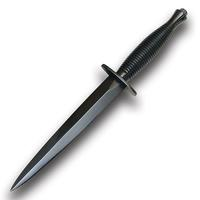knife: (8, 10, 186, 193)
